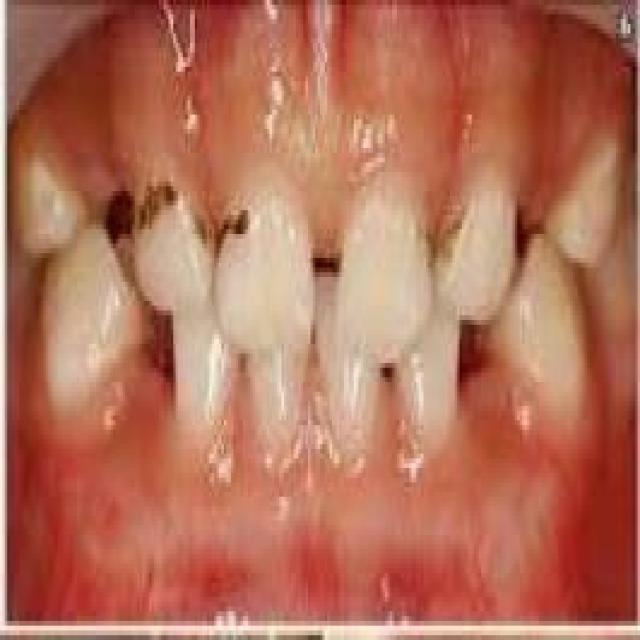caries: (126, 169, 188, 255), (195, 190, 258, 269)
